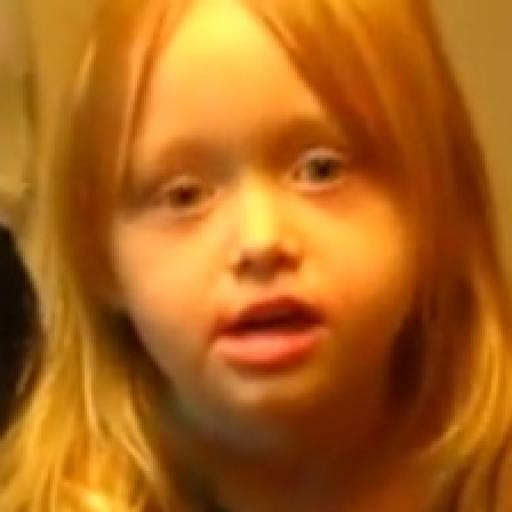Autism: (7, 3, 474, 506)
